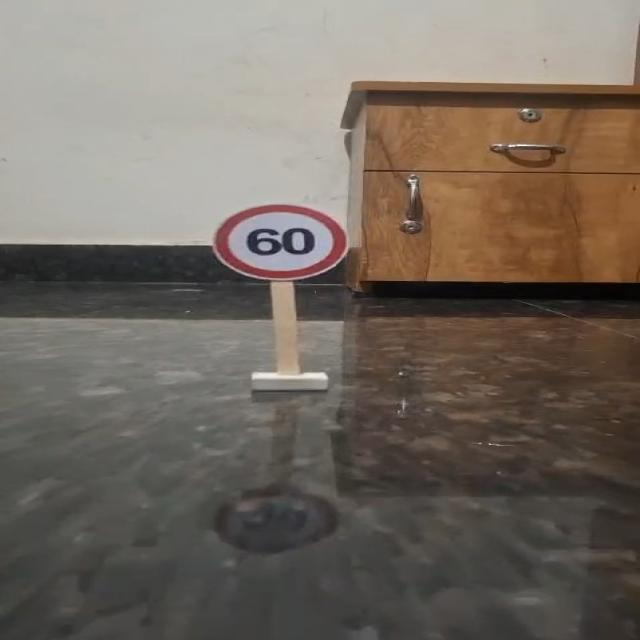Speed60: (203, 198, 357, 287)
